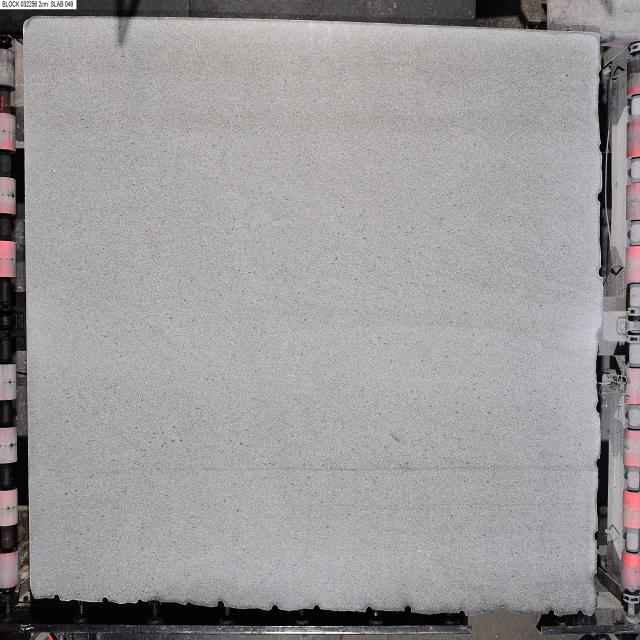chapa: (25, 19, 602, 614)
veio: (214, 598, 227, 612), (546, 606, 556, 618), (576, 608, 586, 618), (497, 606, 507, 616), (404, 604, 412, 616), (52, 593, 61, 603), (100, 596, 111, 604)
